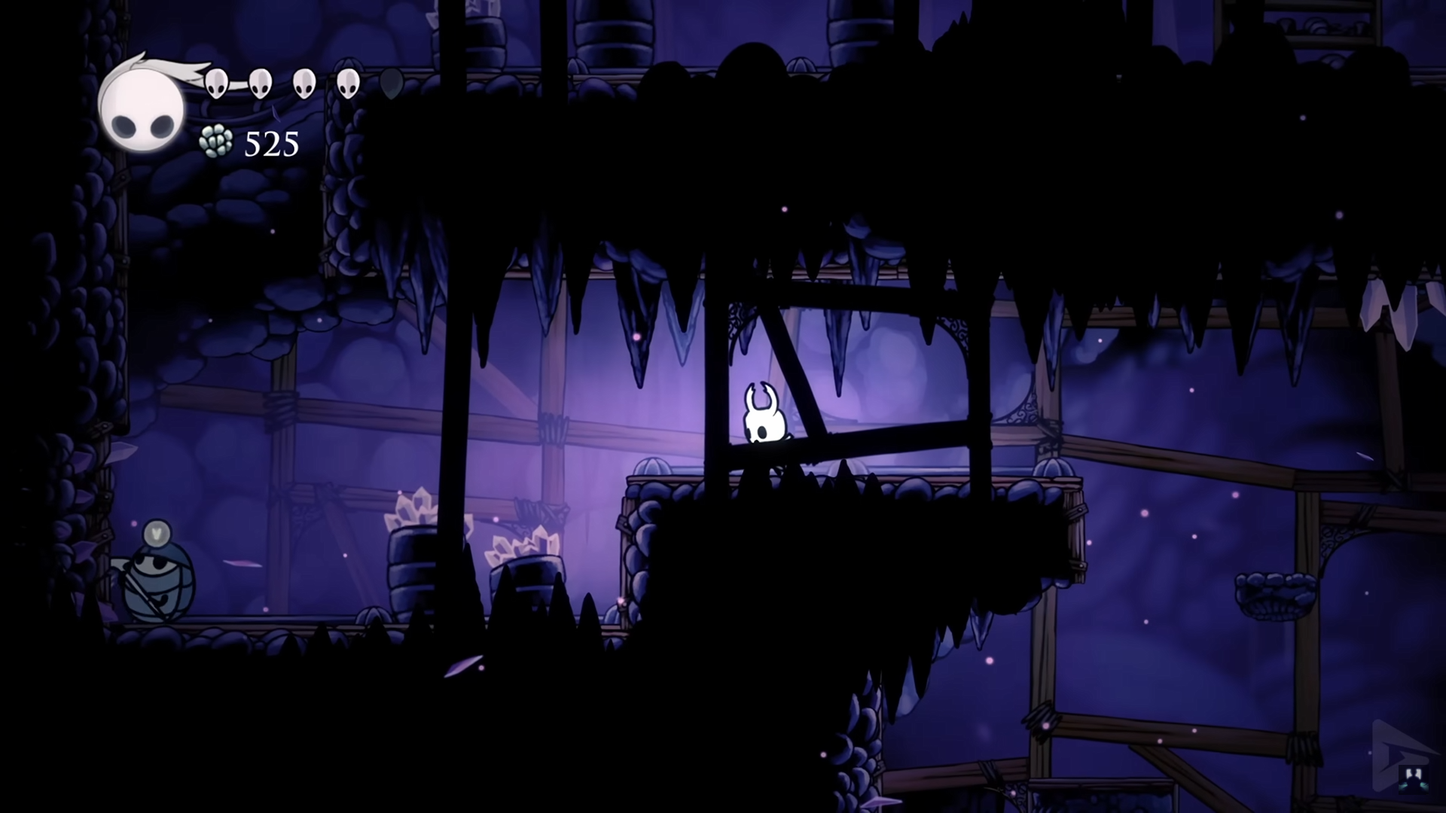HK: (738, 378, 791, 445)
